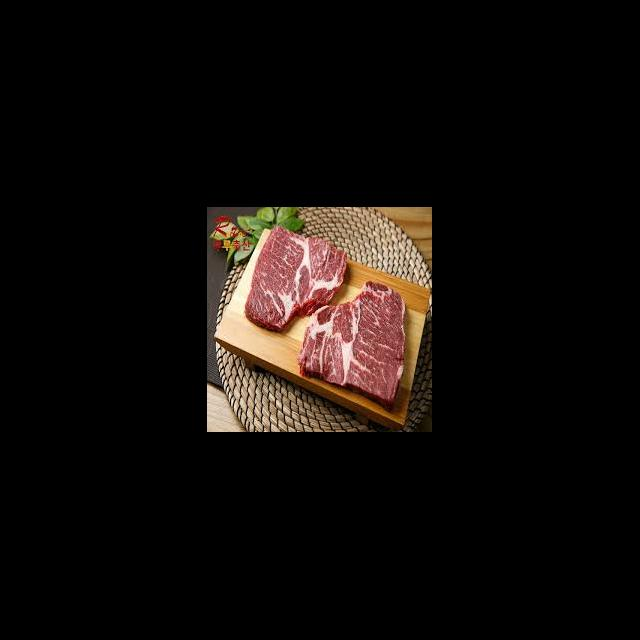beef: (302, 276, 408, 406), (247, 223, 346, 336)
